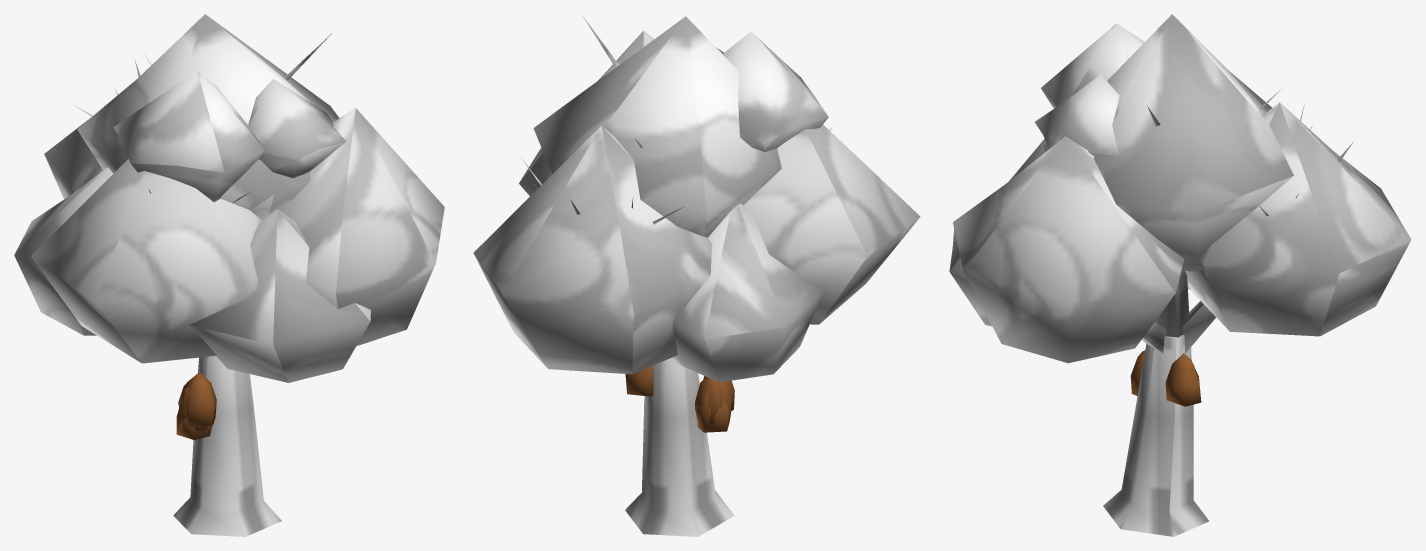
The model's file is tree_cocoa.obj.
The picture shows the model from 3 angles, left to right: view 1: azimuth 30°, elevation 25°; view 2: azimuth 150°, elevation 25°; view 3: azimuth 270°, elevation 25°; orthographic projection. The views are drawn at different scales.
Parts seen in each view (by area): view 1: source_component_026, source_component_027, source_component_024, source_component_029, source_component_030, source_component_000, source_component_031, source_component_025, source_component_028, source_component_032; view 2: source_component_028, source_component_029, source_component_026, source_component_025, source_component_000, source_component_030, source_component_027, source_component_035, source_component_033, source_component_034; view 3: source_component_027, source_component_029, source_component_028, source_component_000, source_component_031, source_component_030, source_component_034, source_component_001, source_component_024, source_component_018.
Part boxes in pixels (left/top/right/bottom): source_component_026: left=31, top=159, right=261, bottom=363; source_component_027: left=281, top=108, right=444, bottom=345; source_component_024: left=189, top=209, right=370, bottom=382; source_component_029: left=77, top=14, right=339, bottom=219; source_component_030: left=113, top=70, right=264, bottom=201; source_component_000: left=173, top=356, right=281, bottom=536; source_component_031: left=248, top=79, right=346, bottom=178; source_component_025: left=14, top=167, right=112, bottom=335; source_component_028: left=44, top=120, right=103, bottom=199; source_component_032: left=179, top=372, right=216, bottom=426; source_component_028: left=473, top=126, right=712, bottom=374; source_component_029: left=533, top=16, right=781, bottom=237; source_component_026: left=743, top=124, right=920, bottom=324; source_component_025: left=667, top=203, right=822, bottom=382; source_component_000: left=625, top=359, right=734, bottom=536; source_component_030: left=722, top=32, right=828, bottom=151; source_component_027: left=519, top=30, right=654, bottom=195; source_component_035: left=695, top=378, right=731, bottom=424; source_component_033: left=696, top=391, right=731, bottom=432; source_component_034: left=625, top=365, right=653, bottom=396; source_component_027: left=953, top=136, right=1184, bottom=363; source_component_029: left=1043, top=14, right=1293, bottom=271; source_component_028: left=1185, top=102, right=1411, bottom=336; source_component_000: left=1103, top=335, right=1208, bottom=536; source_component_031: left=1034, top=74, right=1119, bottom=157; source_component_030: left=1041, top=23, right=1144, bottom=108; source_component_034: left=1165, top=353, right=1201, bottom=406; source_component_001: left=1155, top=271, right=1189, bottom=337; source_component_024: left=949, top=228, right=991, bottom=326; source_component_018: left=1182, top=301, right=1215, bottom=353.
Size of the model in its own units: 0.6072 by 0.8041 by 0.6788.
